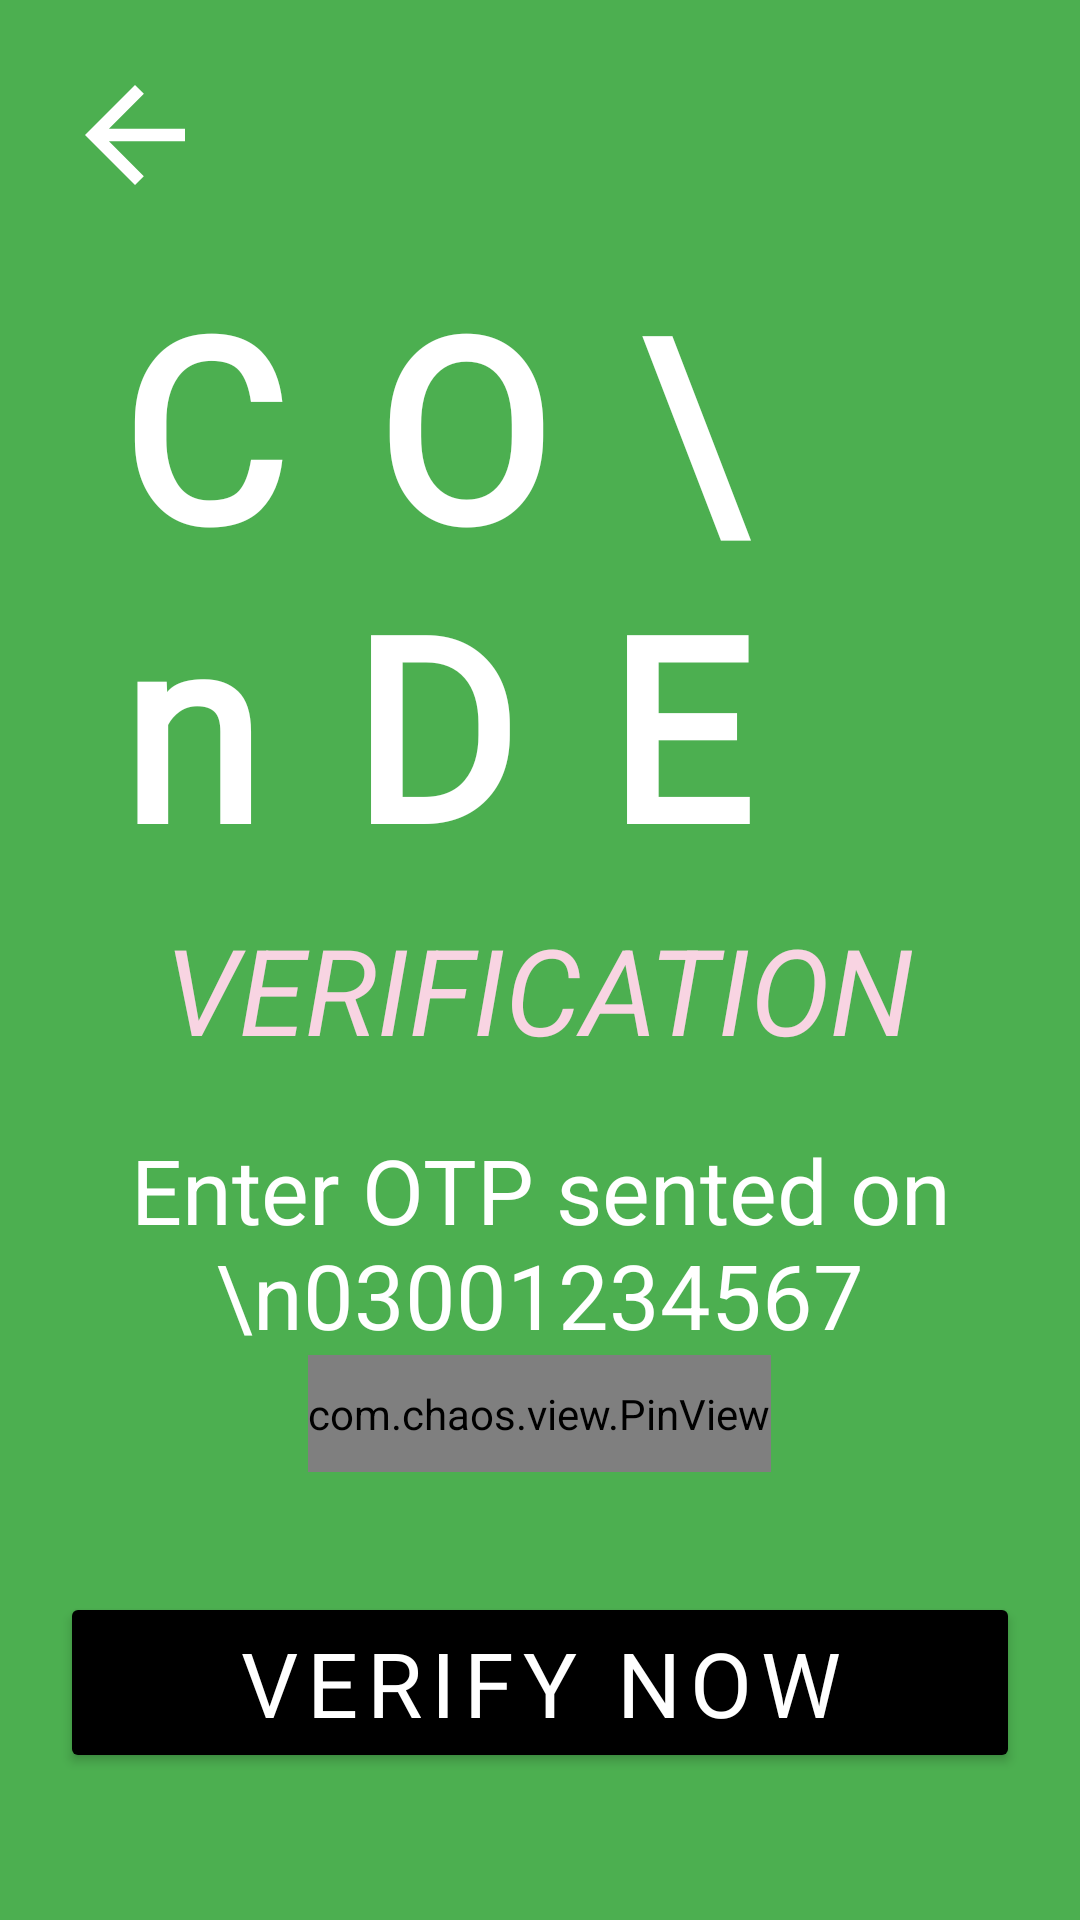

Named icons in this screenshot (1080x1920) and their centers, (x,y):
arrow back: (135,135)
